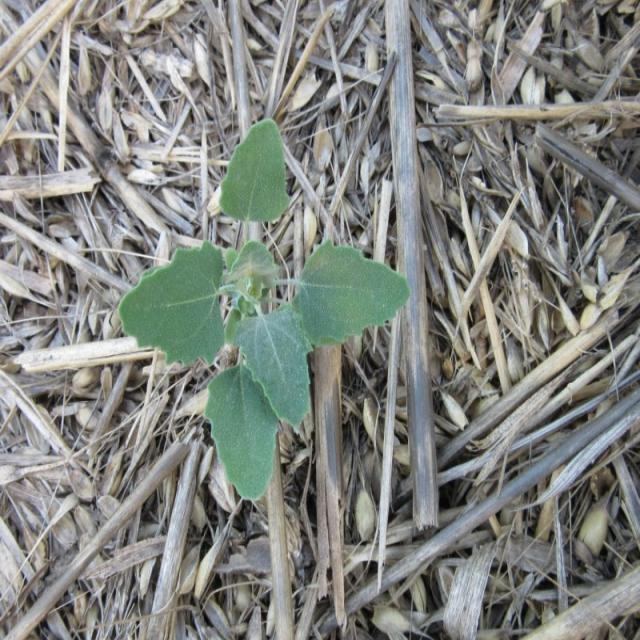ca: (121, 123, 404, 500)
